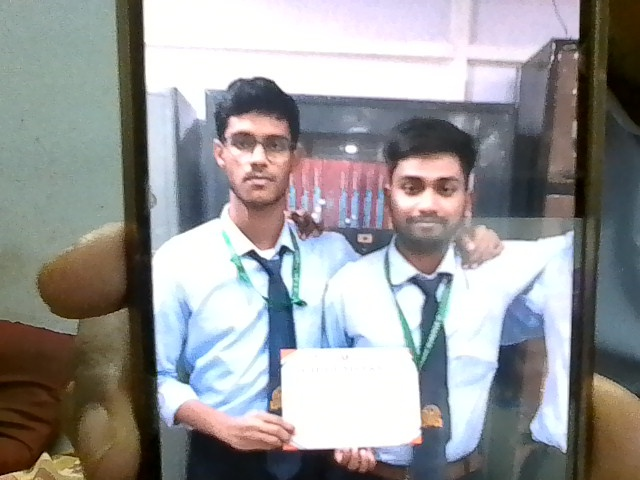real: (203, 70, 311, 223), (378, 120, 475, 257)
